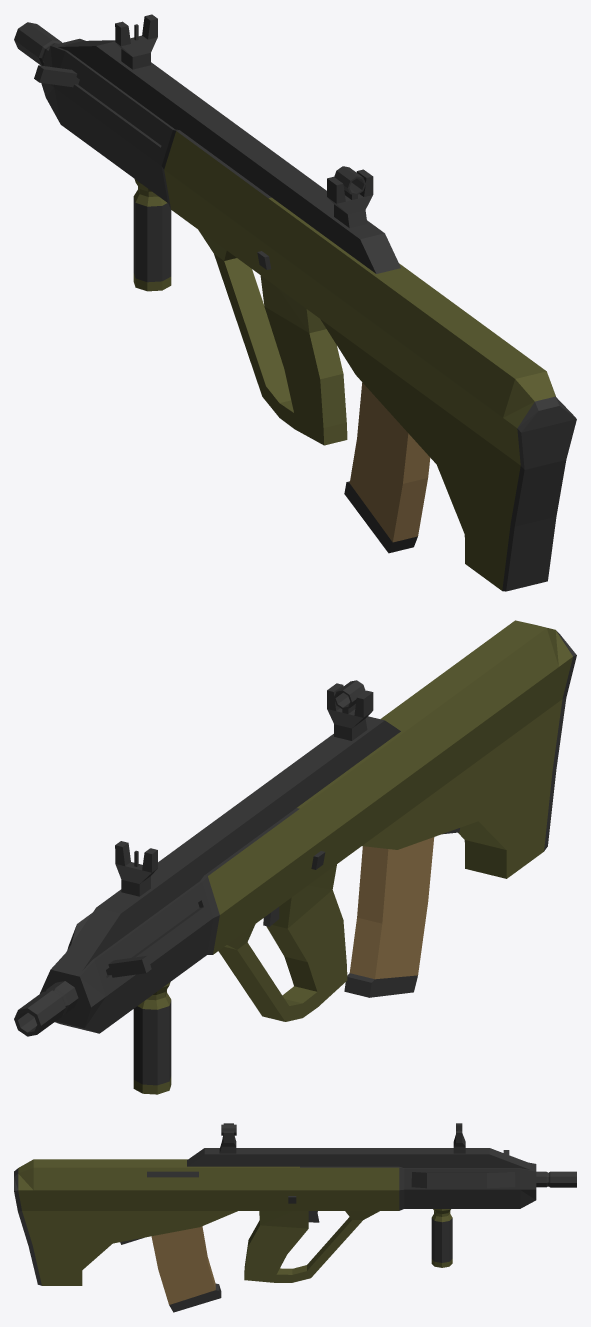
Rendered from Augarino.dae.
3 views of the same model, one above another, from view 1: azimuth 30°, elevation 25°; view 2: azimuth 150°, elevation 25°; view 3: azimuth 270°, elevation 25° (orthographic). The views are drawn at different scales.
Visible parts, largest first — view 1: Cube, Cube_005, Cube_003, Cube_001, Cylinder_004, Cube_006, Cube_007, Cylinder_003, Cube_009; view 2: Cube, Cube_005, Cube_001, Cube_003, Cylinder_004, Cube_006, Cylinder_003, Cube_007, Cube_009; view 3: Cube, Cube_005, Cube_003, Cube_001, Cube_008, Cylinder_004, Cylinder_003, Cube_006, Cube_007.
Part boxes in pixels (x1,y1,x2,y2): Cube: (41,38,576,591); Cube_005: (58,40,400,273); Cube_003: (198,230,347,445); Cube_001: (344,382,430,553); Cylinder_004: (133,179,171,291); Cube_006: (327,166,373,227); Cube_007: (115,14,157,69); Cylinder_003: (14,22,61,65); Cube_009: (34,65,79,87); Cube: (40,620,576,1033); Cube_005: (58,716,400,970); Cube_001: (344,837,434,997); Cube_003: (218,864,347,1021); Cylinder_004: (133,982,171,1094); Cube_006: (327,680,373,740); Cylinder_003: (14,981,78,1036); Cube_007: (115,841,157,896); Cube_009: (106,955,151,977); Cube: (14,1159,536,1285); Cube_005: (187,1148,530,1169); Cube_003: (244,1211,379,1282); Cube_001: (151,1226,221,1312); Cube_008: (411,1172,515,1188); Cylinder_004: (431,1209,452,1267); Cylinder_003: (536,1171,576,1187); Cube_006: (219,1123,236,1153); Cube_007: (453,1123,465,1153).
Bounding box in the file's own units: 1.06 × 9.67 × 3.49.
